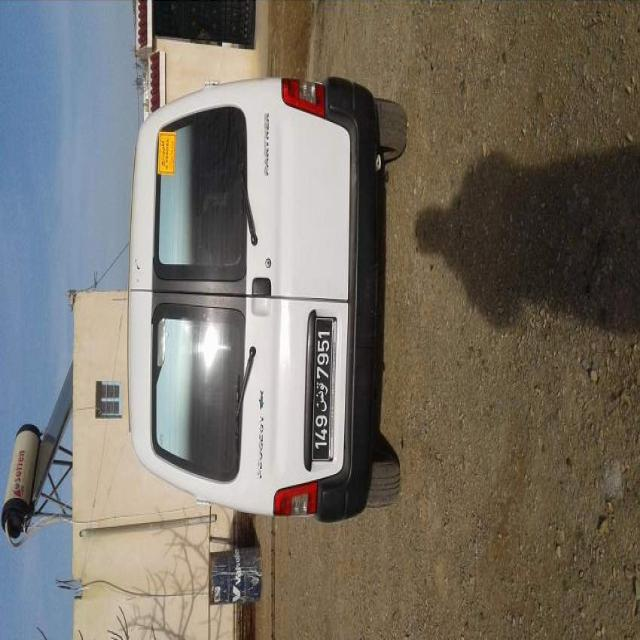licence plate: (314, 320, 332, 459)
